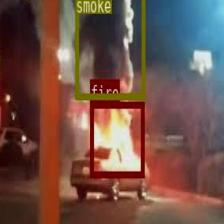fire: (90, 101, 144, 176)
smoke: (74, 0, 144, 99)
